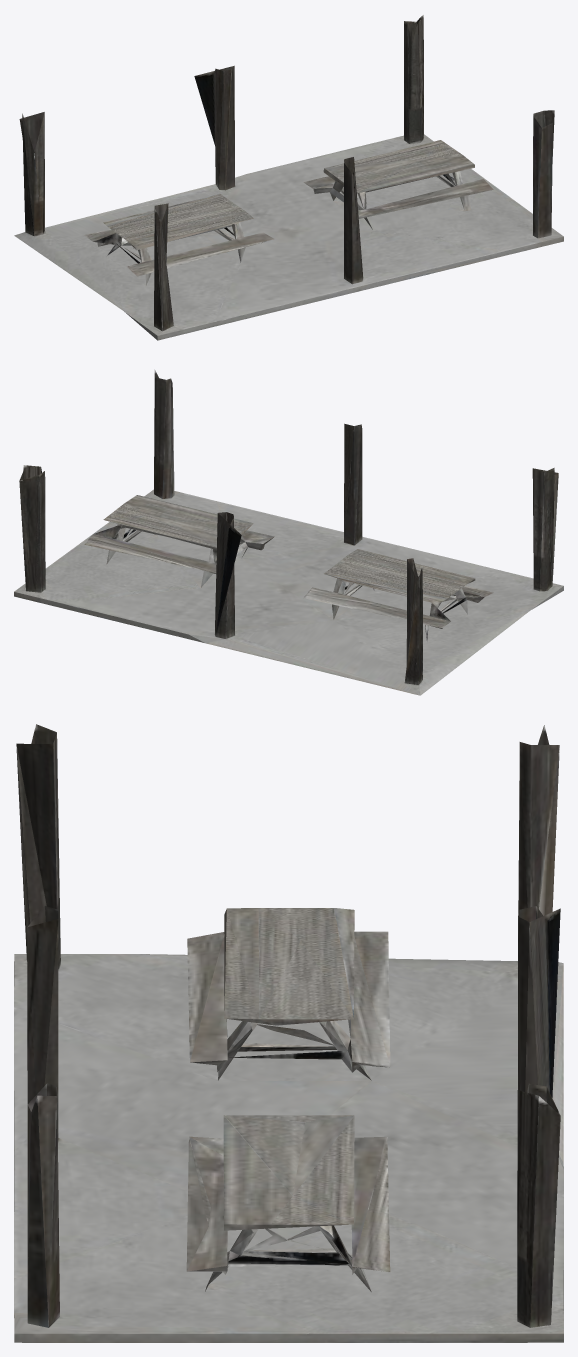
The model's file is camp_shelter.glb.
3 renders of one model, top to bottom at view 1: azimuth 30°, elevation 25°; view 2: azimuth 150°, elevation 25°; view 3: azimuth 270°, elevation 25°, orthographic. The views are drawn at different scales.
Parts seen in each view (by area): view 1: ground; view 2: ground; view 3: ground.
Boxes of the visible parts, left/top/right/bottom form: ground: left=14, top=15, right=563, bottom=340; ground: left=14, top=369, right=563, bottom=695; ground: left=14, top=724, right=563, bottom=1342.
Bounding box in the file's own units: 9 × 2.7 × 5.51.
Materials: 1 (1 with a texture image).
